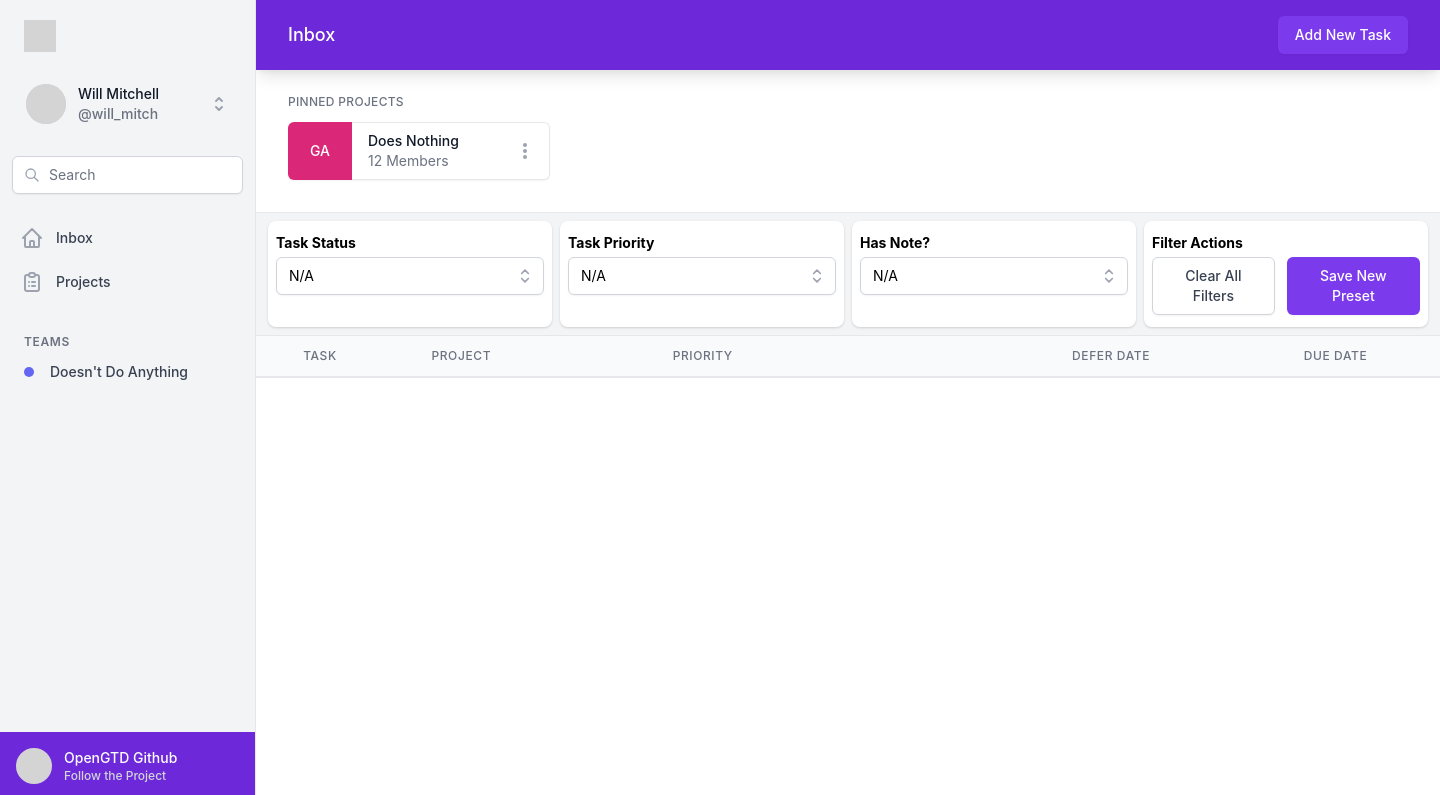
Test: Selected Tasks › Selected Task - Task Title › Expects the selected task to contain the task title
Click the button "Add New Task".
click(1343, 35)  # box [1278,16,1408,54]
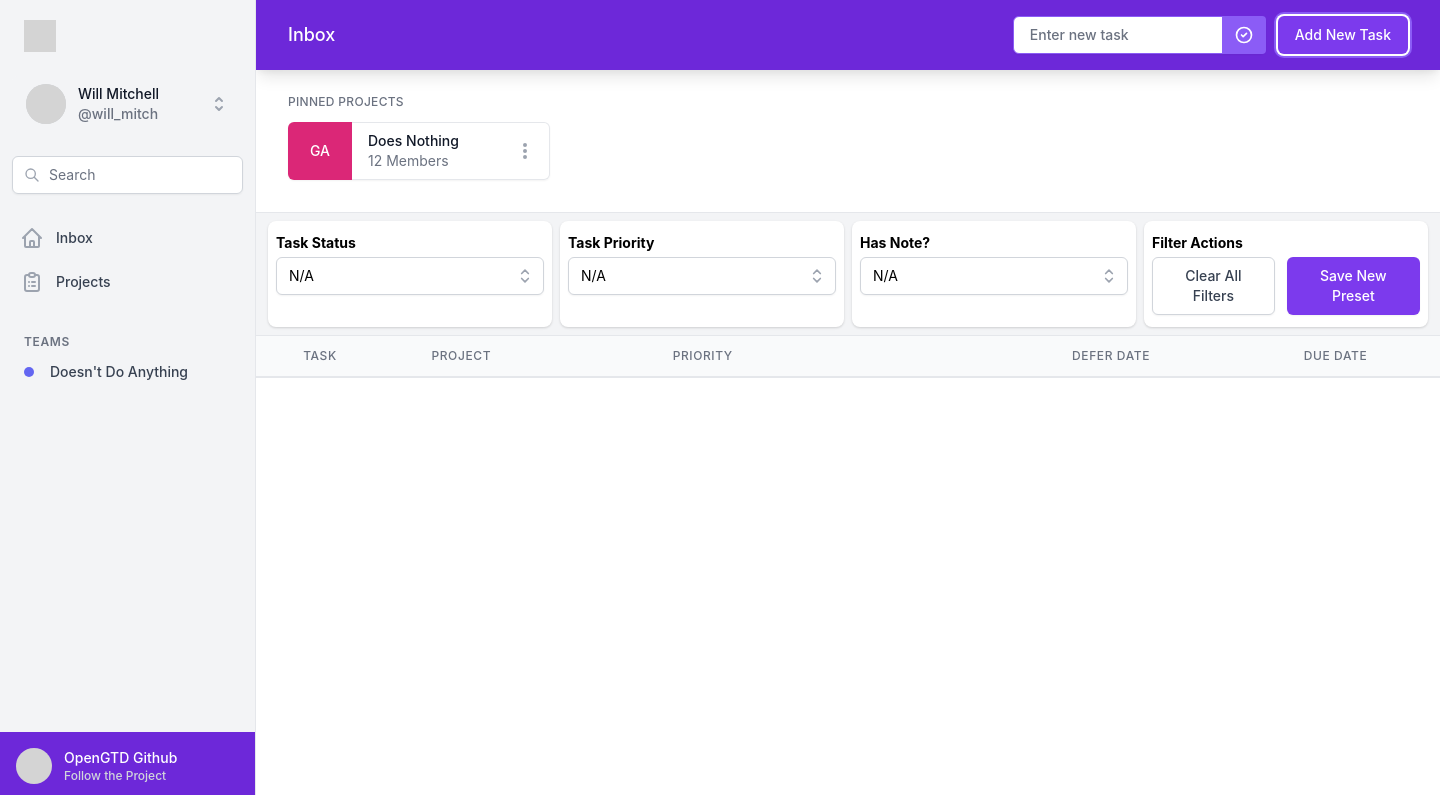
Type "Cypress test task" into the field with id "addTaskInput".
click(1140, 35); type("Cypress test task")  # box [1013,16,1266,54]
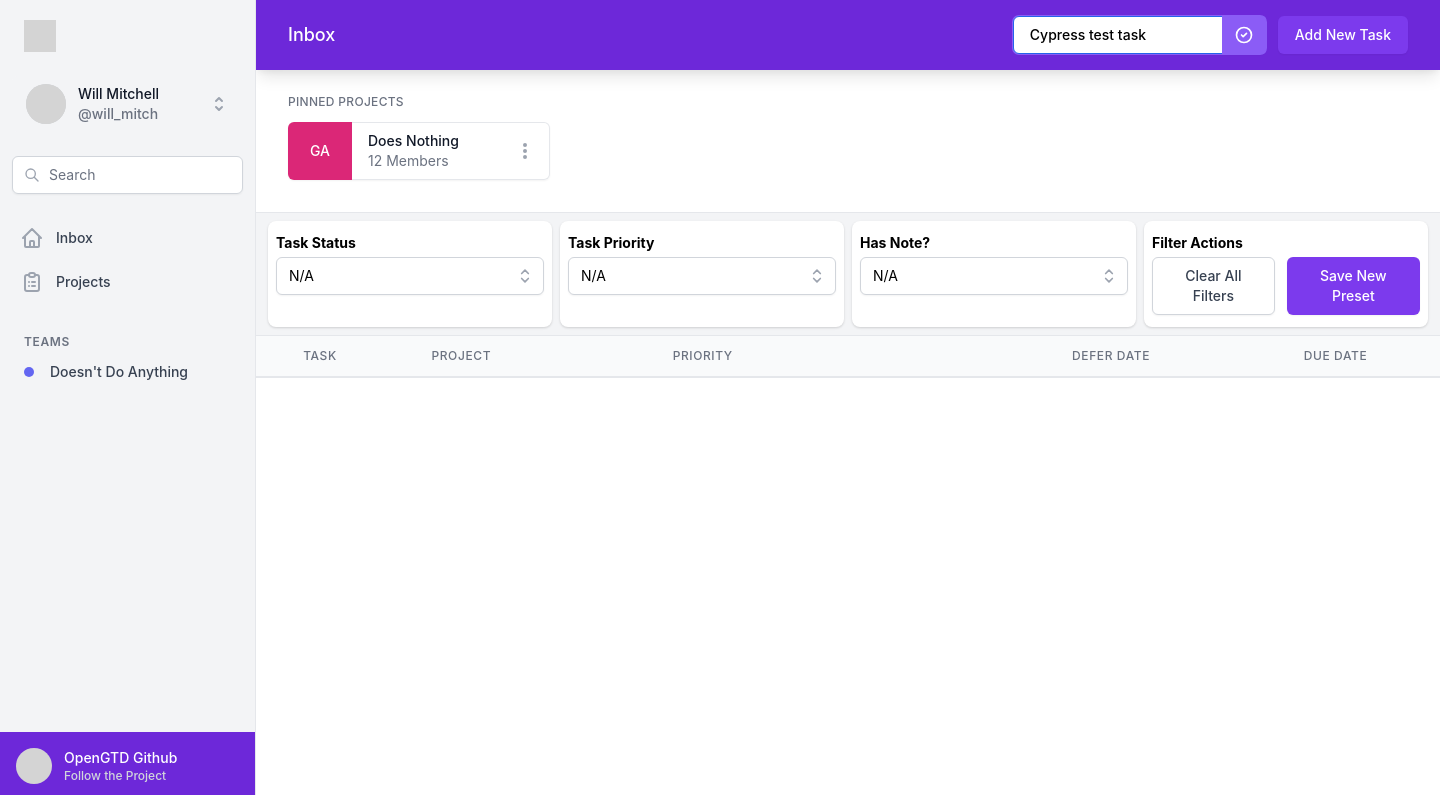
Click the button with id "submitNewTaskButton".
click(1244, 35)  # box [1222,16,1266,54]
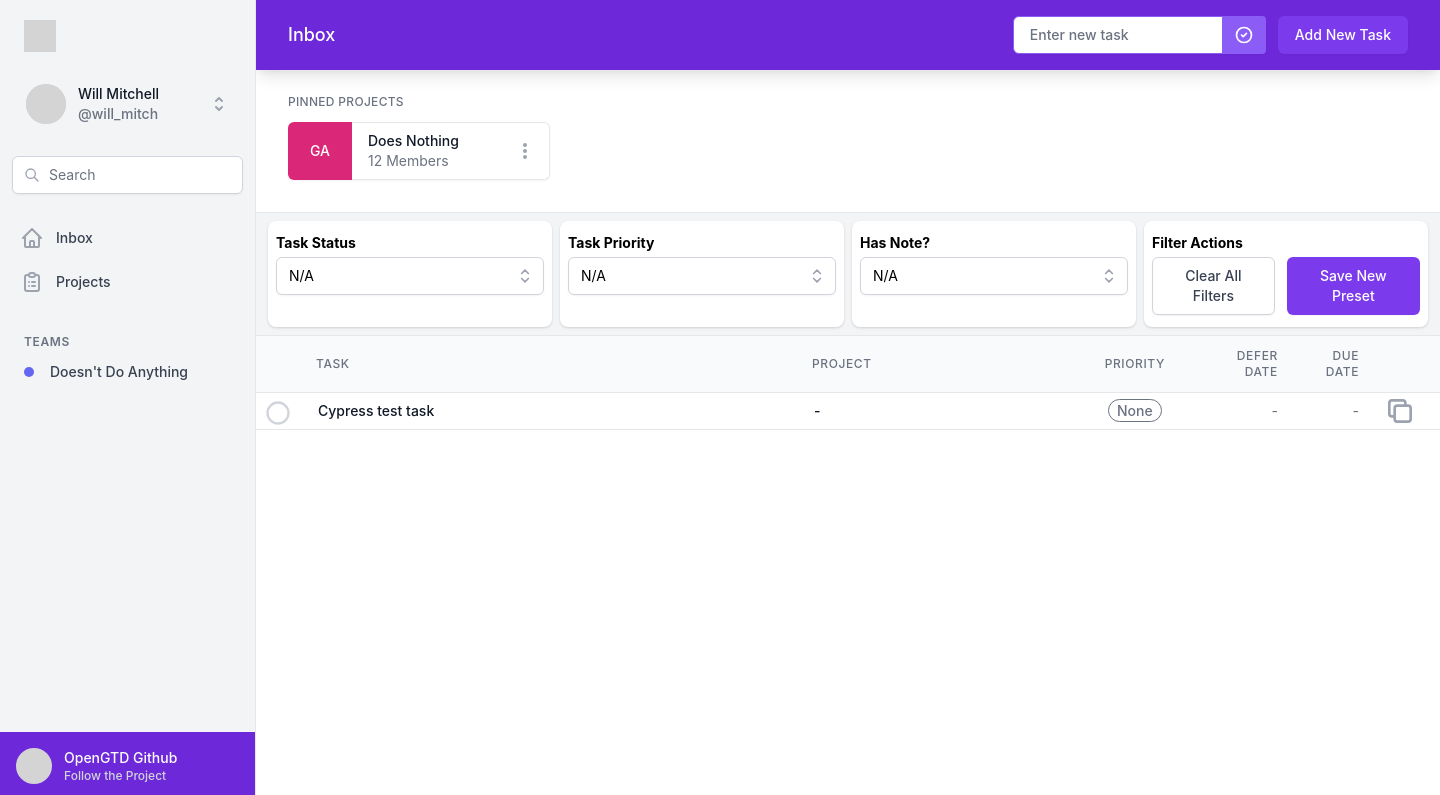
Click the row with id "taskId0".
click(376, 411)  # box [256,393,1439,430]
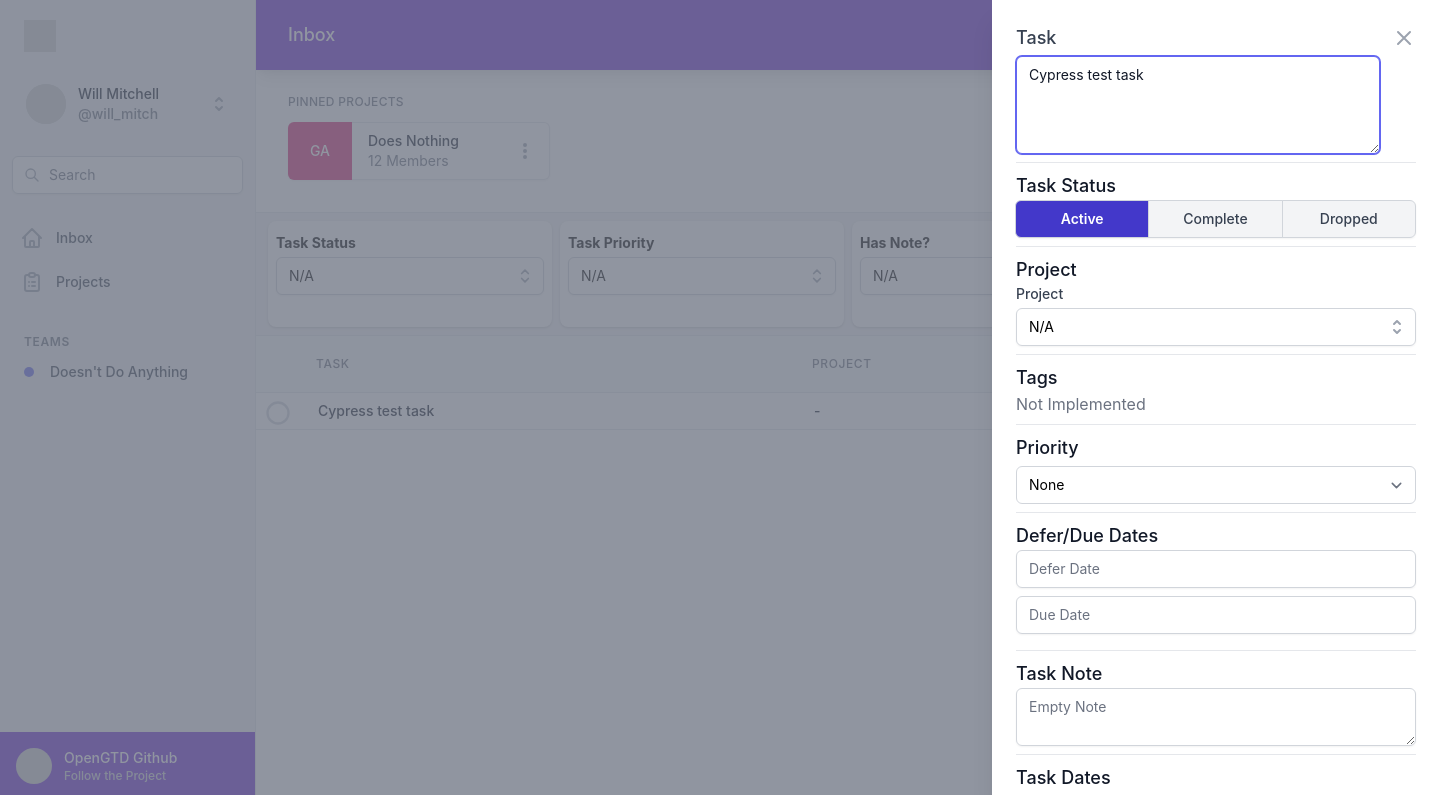
Result: the text box with id "selectedTaskName" holds "Cypress test task" at [1016,56,1380,154]
